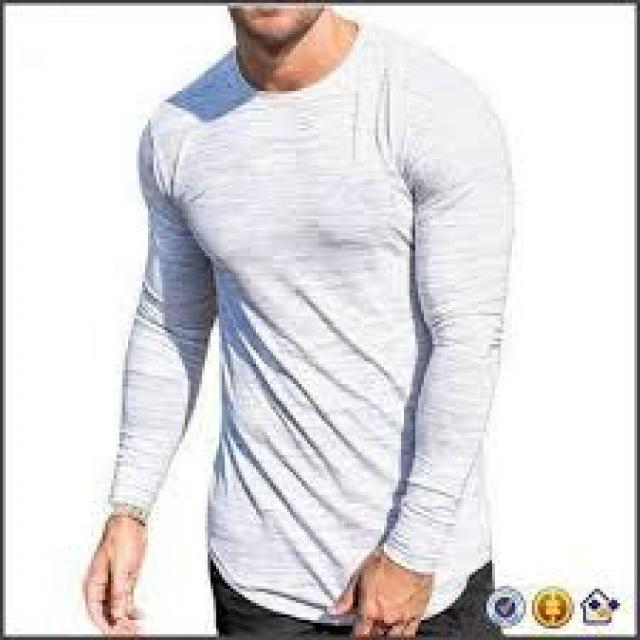plain: (113, 38, 519, 566)
